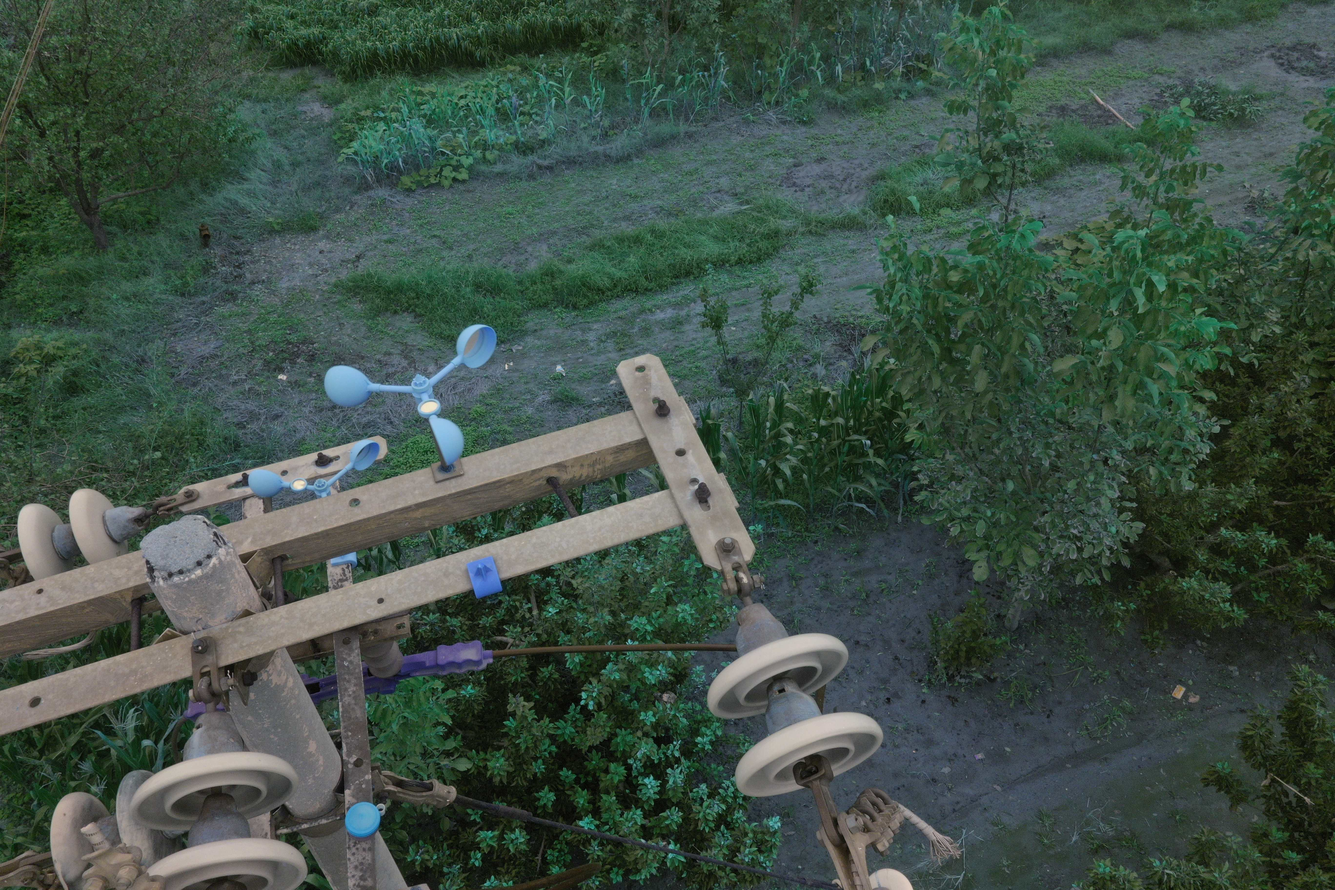severe_soiling_no_discharge_whole: (49, 766, 182, 866)
